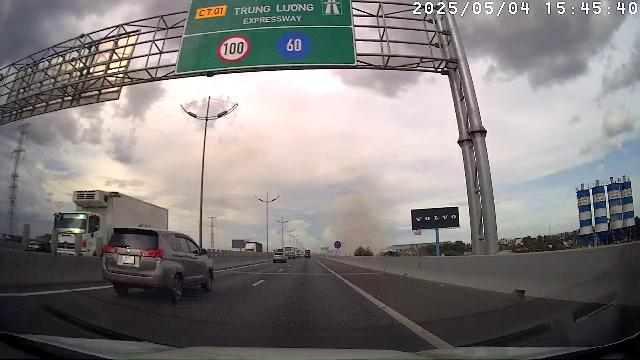127-toc-do-toi-da-100: (216, 34, 252, 62)
306-toc-do-toi-thieu-60: (277, 30, 313, 60)
437-bat-dau-duong-cao-toc: (320, 1, 344, 18)
